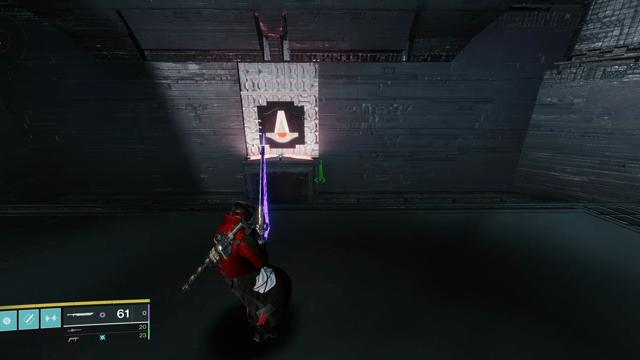enter: (265, 108, 298, 144)
